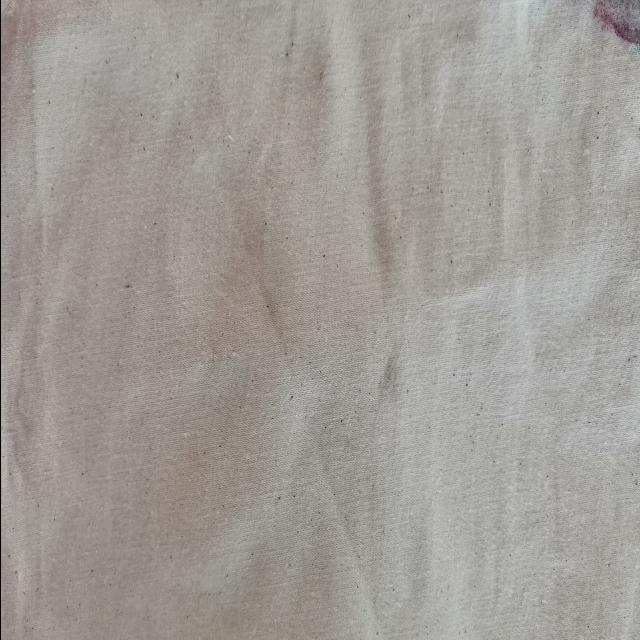taaaches: (574, 0, 640, 61), (371, 348, 401, 423)
